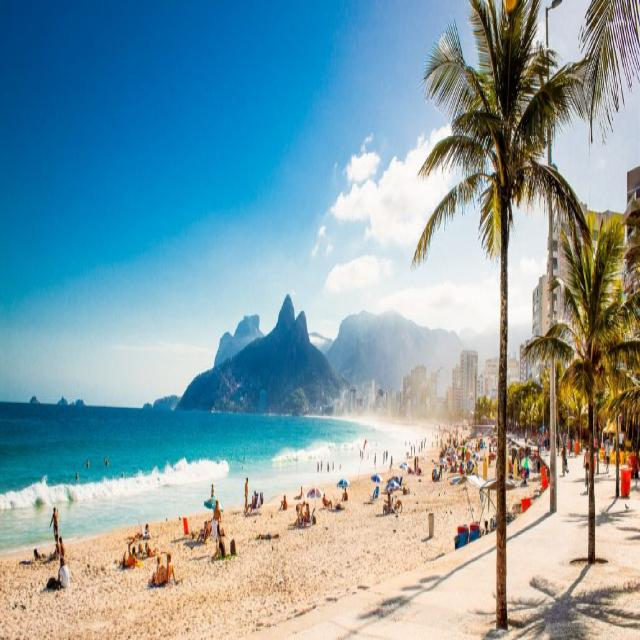body: (358, 425, 552, 516), (70, 451, 137, 487), (556, 428, 580, 478), (118, 538, 136, 571), (160, 552, 178, 585), (55, 554, 70, 590), (210, 530, 226, 560), (142, 542, 166, 560), (316, 457, 343, 473), (48, 505, 59, 544), (128, 521, 150, 540), (212, 498, 222, 538), (54, 534, 66, 564), (583, 444, 591, 488), (148, 557, 161, 584), (244, 490, 257, 517), (294, 500, 306, 527), (196, 518, 208, 543), (49, 534, 60, 561), (33, 547, 53, 561), (214, 520, 224, 548), (480, 516, 494, 536), (183, 538, 205, 549), (293, 486, 306, 503), (322, 491, 332, 513), (256, 531, 280, 540), (604, 439, 610, 474), (278, 492, 288, 512), (303, 502, 310, 528), (244, 477, 249, 513), (592, 432, 598, 458), (17, 557, 33, 566), (340, 486, 348, 503), (137, 540, 144, 558), (189, 526, 197, 539), (211, 483, 215, 499)
